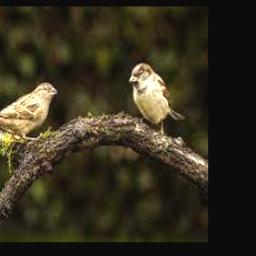Sparrow: (128, 63, 184, 136), (0, 80, 57, 139)
